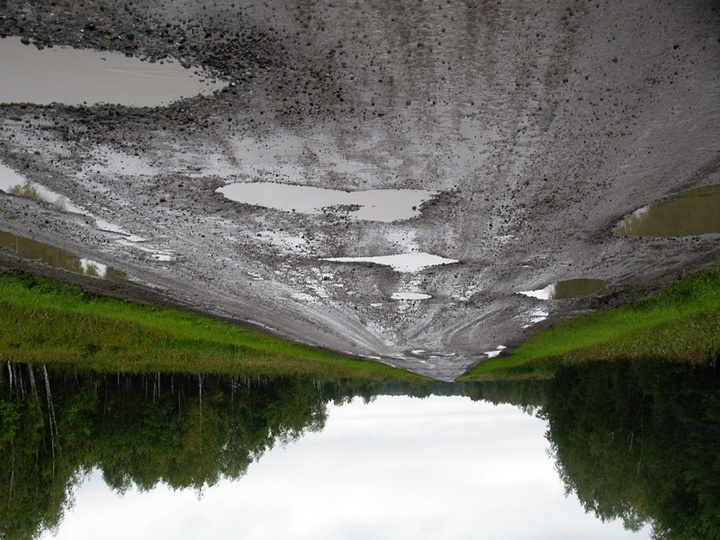pothole: (1, 38, 225, 128), (216, 180, 468, 224), (611, 177, 716, 255), (317, 244, 464, 275), (517, 270, 617, 303), (244, 227, 313, 267), (60, 212, 154, 236), (1, 166, 61, 203), (124, 241, 182, 266), (386, 286, 434, 303), (477, 343, 508, 363), (405, 347, 435, 359)
